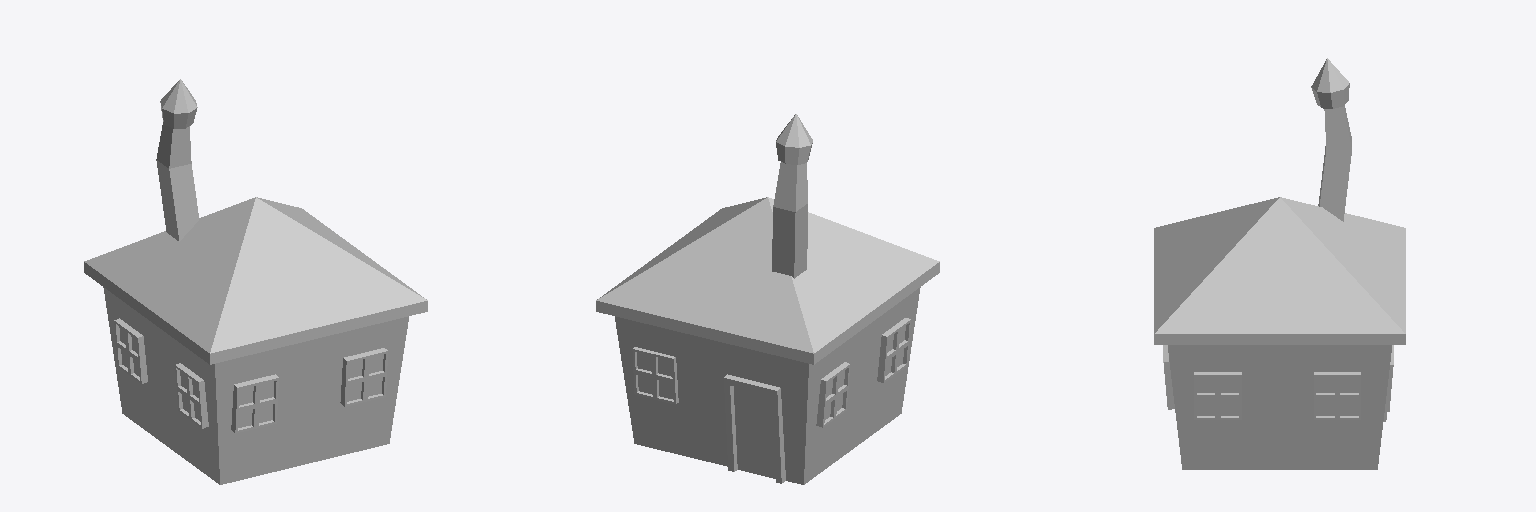
The model's file is house_1.obj.
3 views of the same model, side by side, from view 1: azimuth 30°, elevation 25°; view 2: azimuth 150°, elevation 25°; view 3: azimuth 270°, elevation 25° (orthographic).
Visible parts, largest first — view 1: house_1; view 2: house_1; view 3: house_1.
Part boxes in pixels (x1,y1,x2,y2): house_1: (84,79,427,484); house_1: (596,114,939,484); house_1: (1154,58,1405,469).
Bounding box in the file's own units: 6.68 × 10.12 × 6.68.